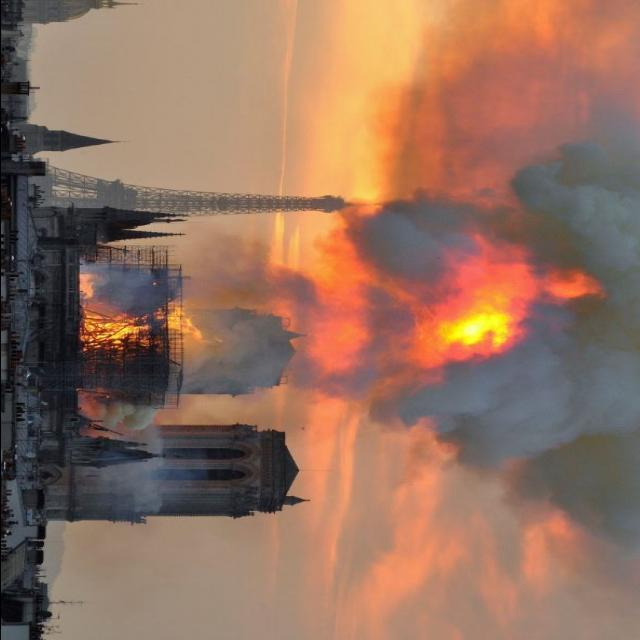Fire: (59, 266, 234, 362)
